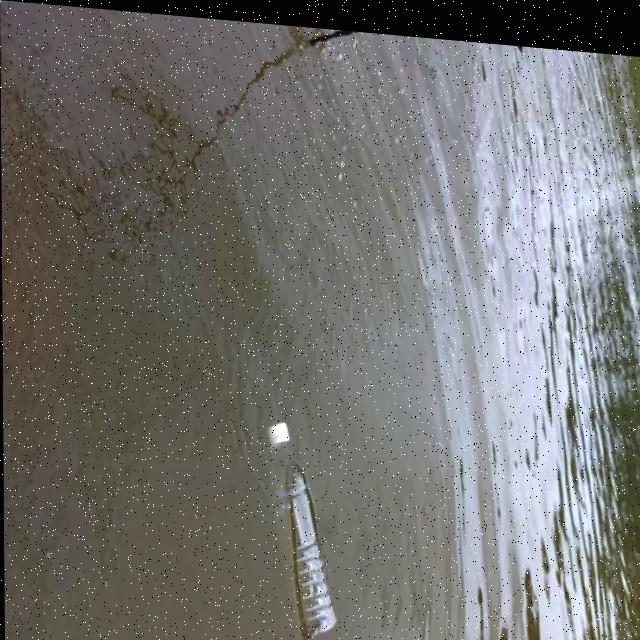waterbottle: (240, 378, 340, 640)
